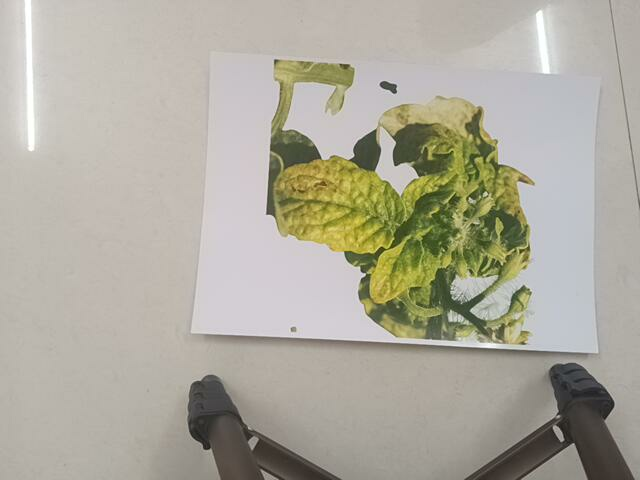Tomamto_Leaf_curl_virus: (252, 55, 559, 354)
